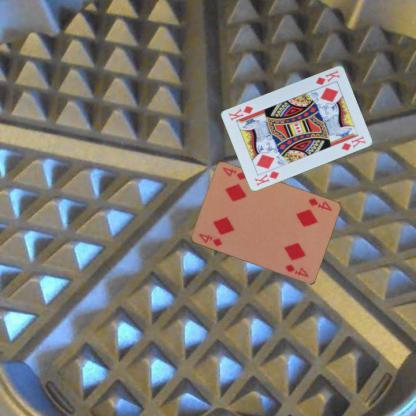4d: (196, 230, 223, 248), (305, 195, 333, 212)
Kd: (313, 67, 342, 86), (252, 168, 280, 187)
